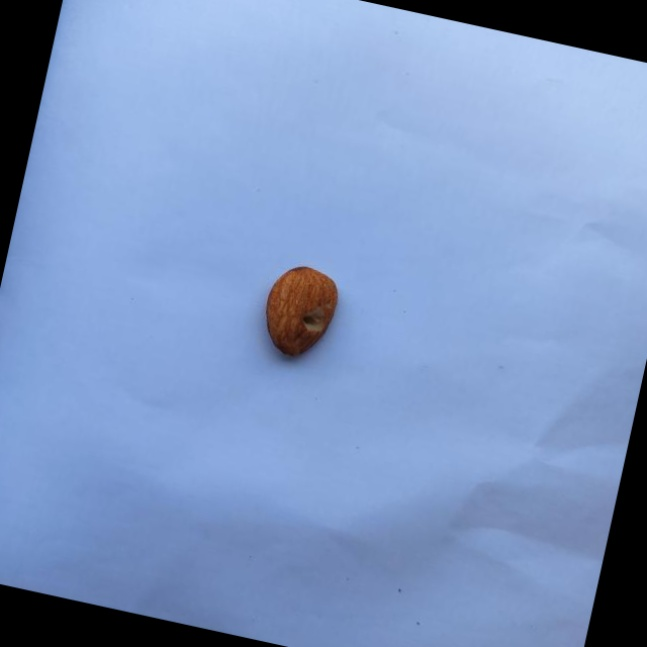grade3: (254, 256, 349, 369)
